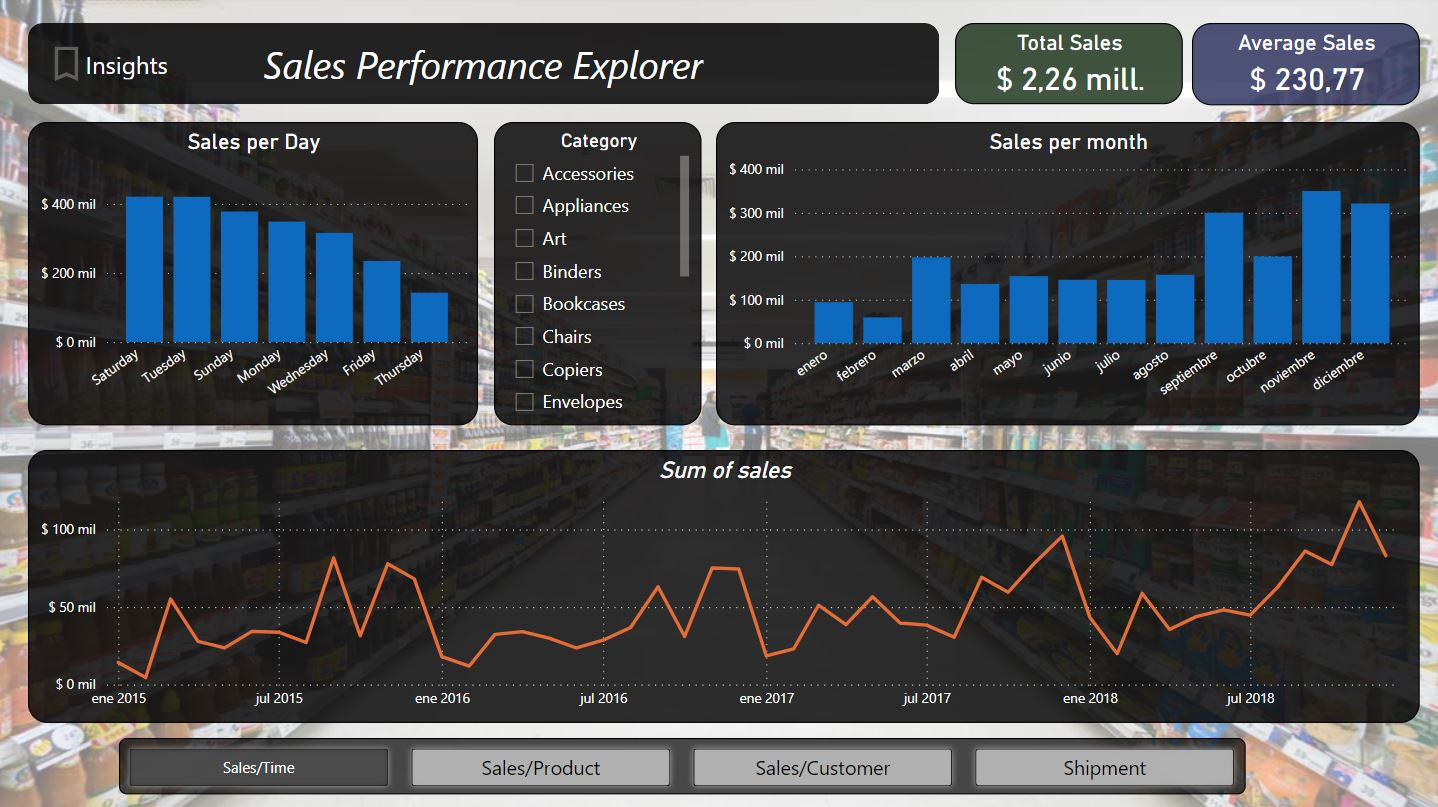

The page's visual inventory and layout, read from the dashboard file:
{"tool":"powerbi","page":{"name":"Sales/Time","canvas":[1280,720],"ordinal":0},"visuals":[{"type":"lineChart","title":" Sum of sales","fields":{"Y":["Sum(superstore_etl.Sales)"],"Category":["superstore_etl.Order_Date.Variación.Jerarquía de fechas.Año","superstore_etl.Order_Date.Variación.Jerarquía de fechas.Trimestre","superstore_etl.Order_Date.Variación.Jerarquía de fechas.Mes"]},"box":[27.4,401.8,1234.1,241.9],"z":0},{"type":"columnChart","title":"Sales per Day","fields":{"Category":["superstore_etl.Day"],"Y":["Sum(superstore_etl.Sales)"]},"box":[27.4,110.9,398.9,269.3],"z":2000},{"type":"pageNavigator","box":[108,656.6,999.4,50.4],"z":3000},{"type":"shape","box":[27.4,23,807.8,72],"z":4000},{"type":"slicer","title":"Category","fields":{"Values":["superstore_etl.Sub_Category"]},"box":[440.6,110.9,184.3,269.3],"z":5000},{"type":"actionButton","title":"Insights","box":[41.8,38.9,113.8,40.3],"z":6000},{"type":"card","title":"Average Sales","fields":{"Values":["Avg(superstore_etl.Sales)"]},"box":[1059.8,23,201.6,73.4],"z":8000},{"type":"card","title":"Total Sales","fields":{"Values":["Sum(superstore_etl.Sales)"]},"box":[849.6,23,201.6,72],"z":9000},{"type":"columnChart","title":"Sales per month","fields":{"Y":["Sum(superstore_etl.Sales)"],"Category":["superstore_etl.Order_Date.Variación.Jerarquía de fechas.Mes"]},"box":[637.9,110.9,623.5,269.3],"z":10000}]}

Visuals, with their boxes in screenshot pixels (x1, y1, x2, y2), scaled from the page's 1280x720 canvas onto the 1438x807 screenshot:
" Sum of sales" lineChart: locate(31, 450, 1417, 721)
"Sales per Day" columnChart: locate(31, 124, 479, 426)
pageNavigator: locate(121, 736, 1244, 792)
shape: locate(31, 26, 938, 106)
"Category" slicer: locate(495, 124, 702, 426)
"Insights" actionButton: locate(47, 44, 175, 89)
"Average Sales" card: locate(1191, 26, 1417, 108)
"Total Sales" card: locate(954, 26, 1181, 106)
"Sales per month" columnChart: locate(717, 124, 1417, 426)
